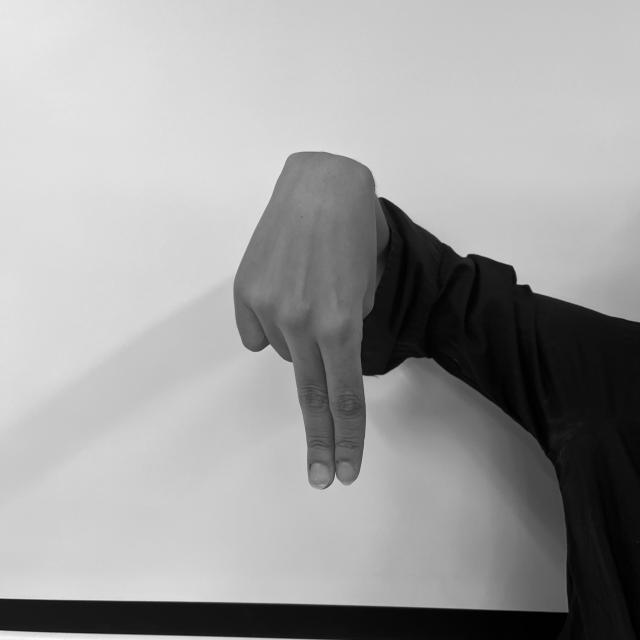Letra N: (228, 148, 379, 498)
